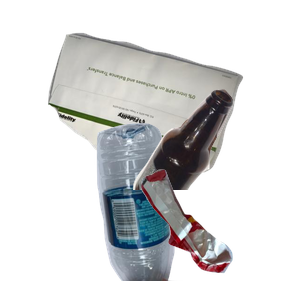glass: (130, 87, 300, 267)
paper: (45, 30, 281, 195)
plastic: (94, 120, 267, 300)
trash: (139, 167, 300, 300)
